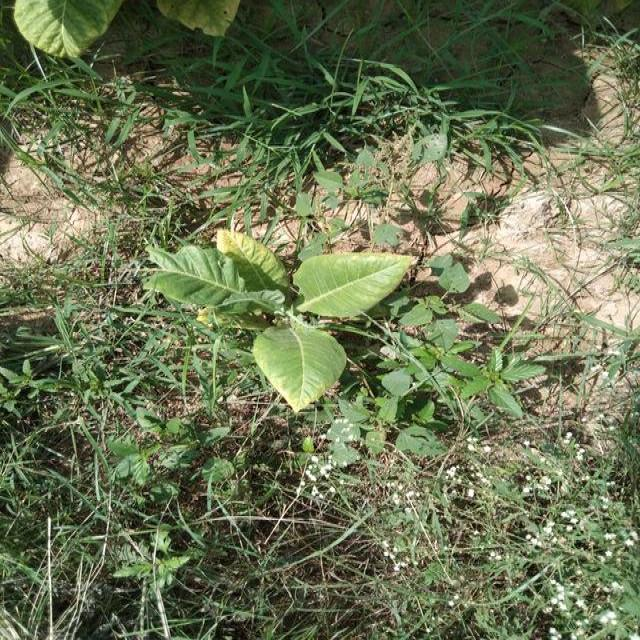crop: (150, 215, 410, 408), (12, 0, 249, 59)
